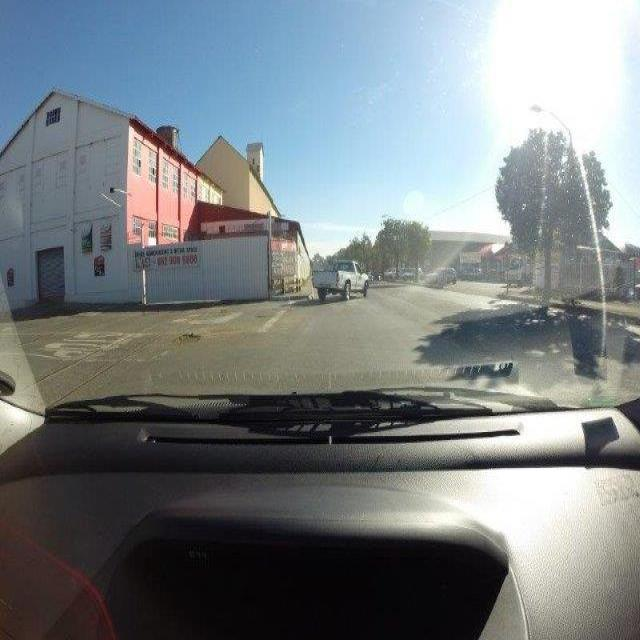lubang: (172, 329, 204, 347)
